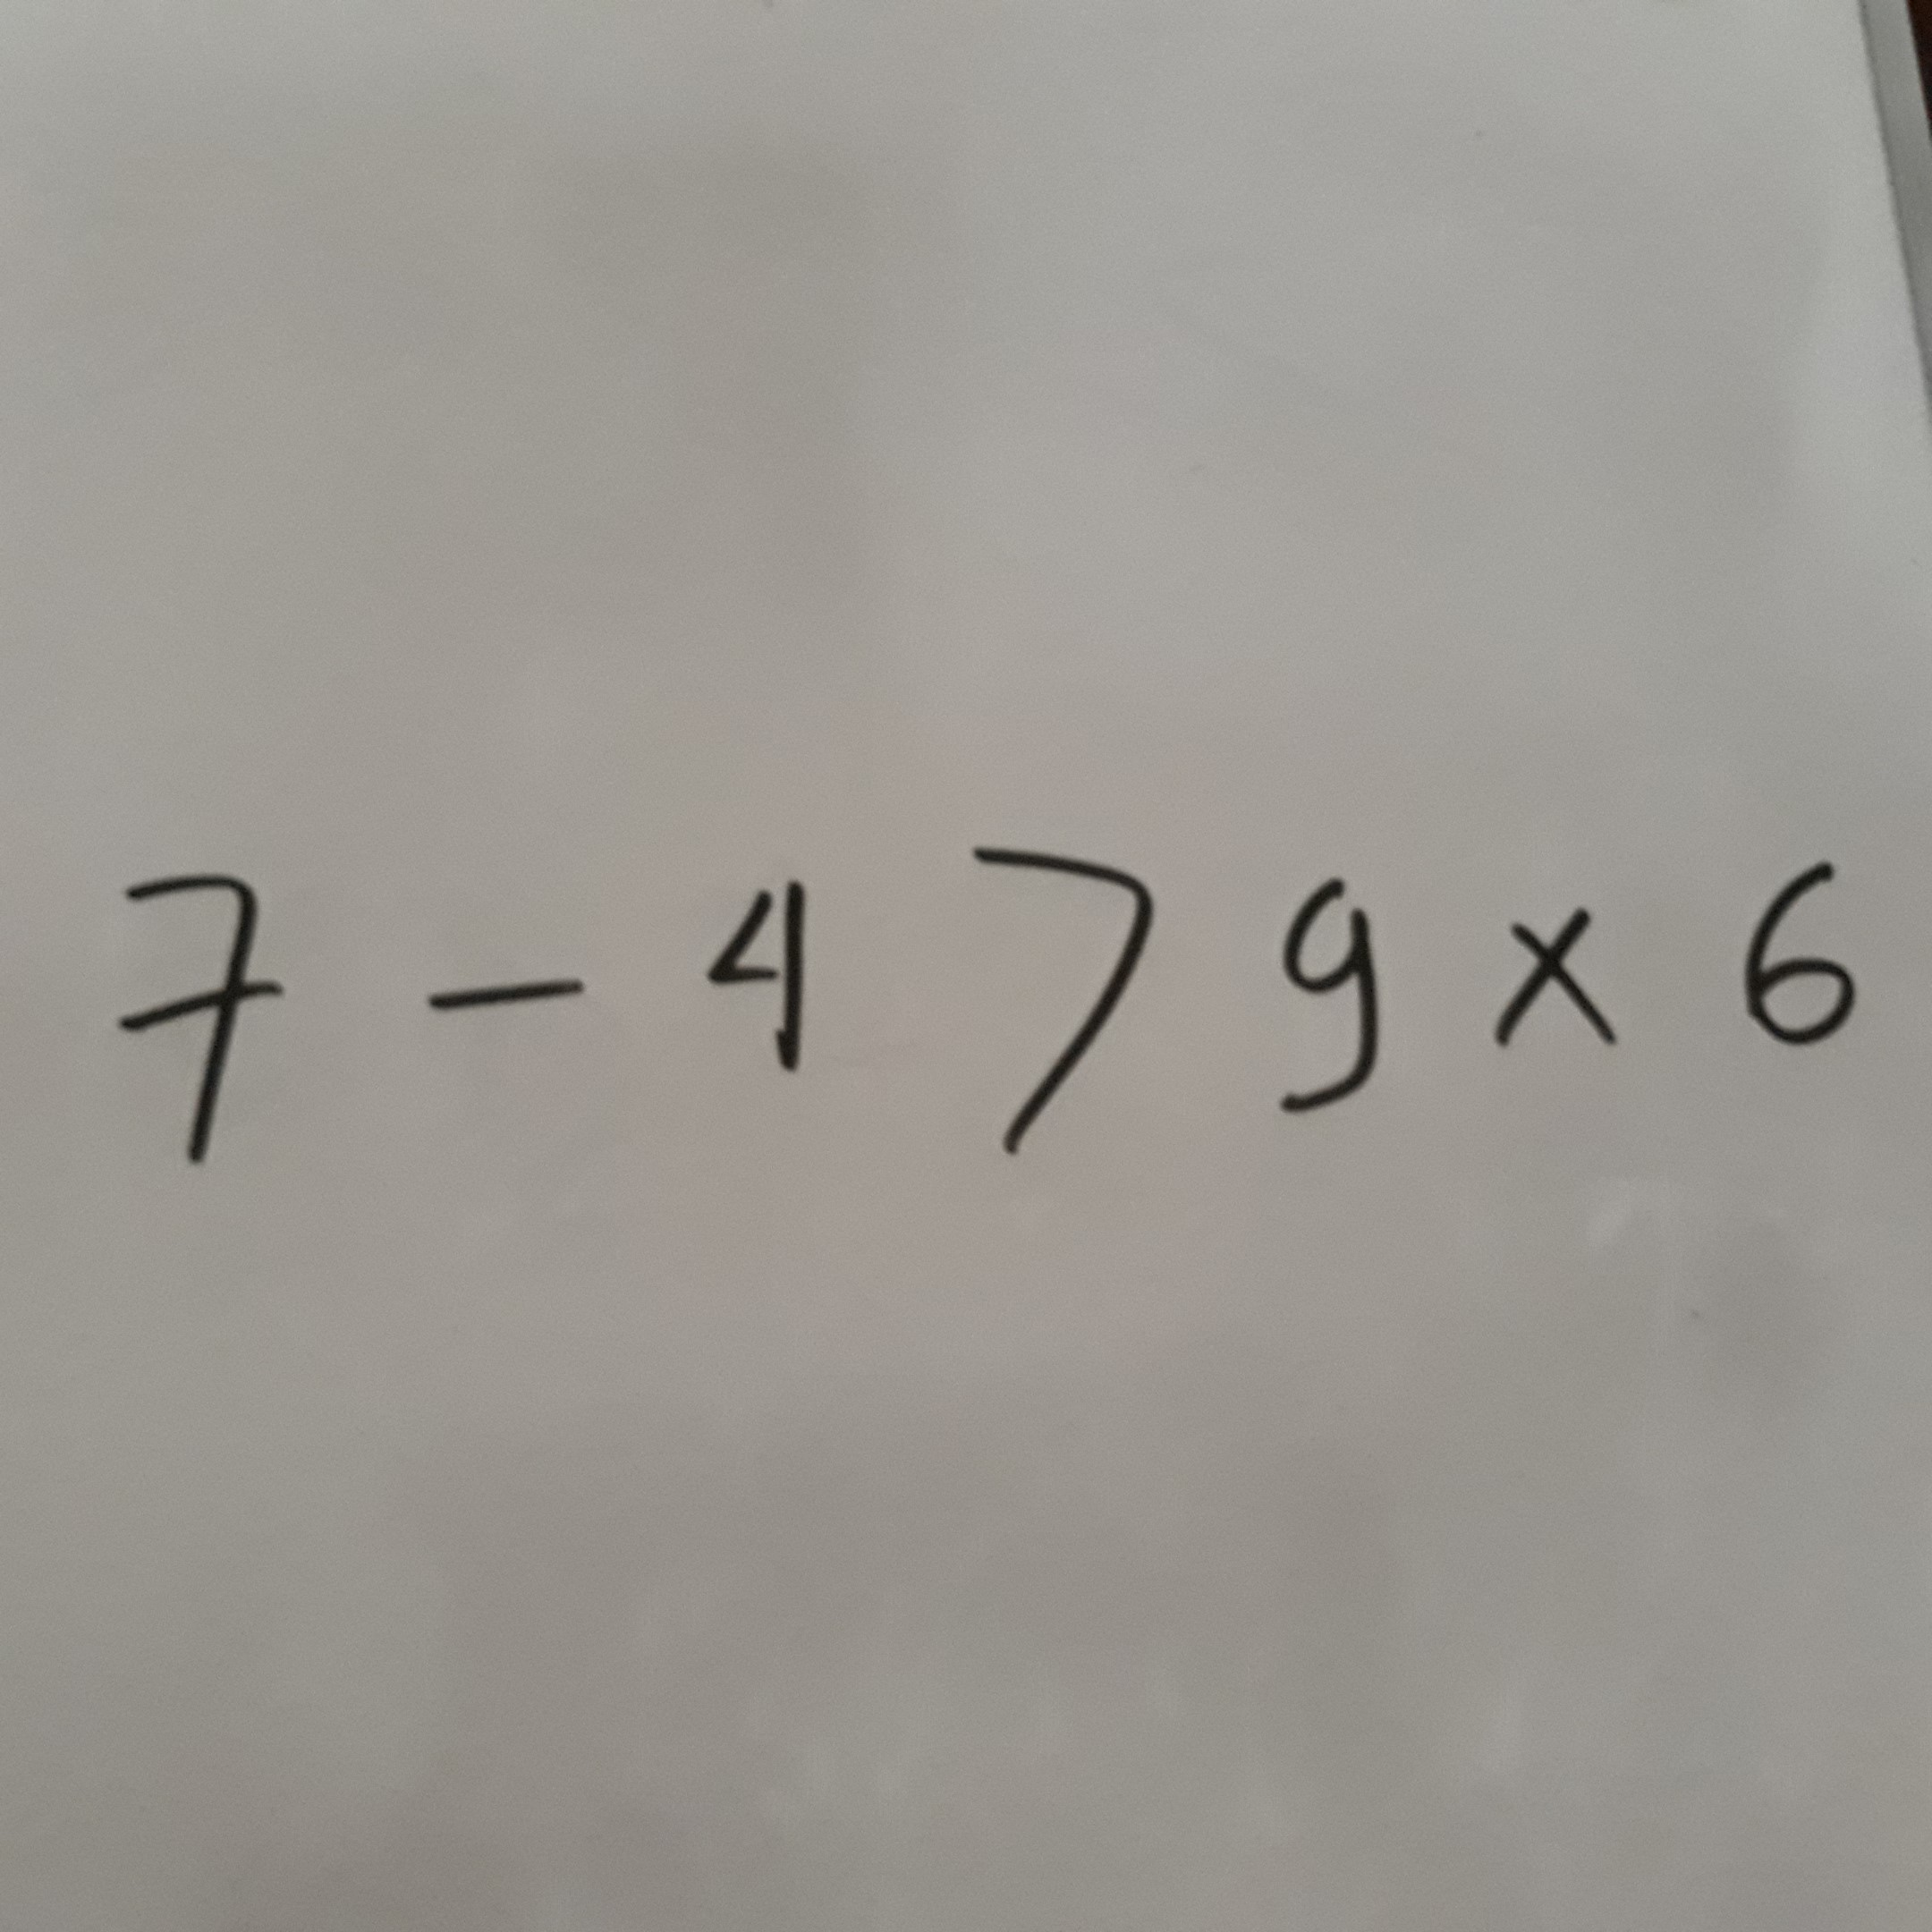min: (407, 953, 593, 1037)
morethan: (941, 790, 1176, 1164)
multi: (1470, 890, 1631, 1069)
num4: (687, 849, 850, 1089)
num6: (1723, 852, 1880, 1057)
num7: (94, 860, 297, 1186)
num9: (1224, 873, 1409, 1119)
